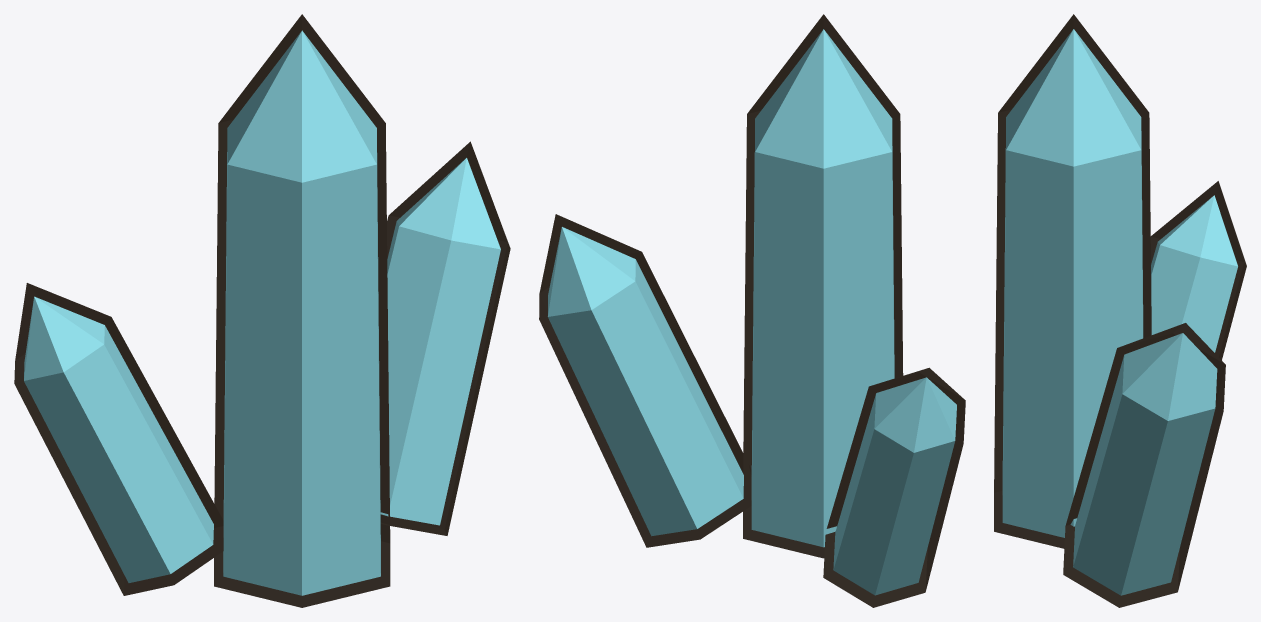
The model's file is crystal_01.glb.
3 views of the same model, side by side, from view 1: azimuth 30°, elevation 25°; view 2: azimuth 150°, elevation 25°; view 3: azimuth 270°, elevation 25° (orthographic). The views are drawn at different scales.
Visible parts, largest first — view 1: OBJ_crystal_01; view 2: OBJ_crystal_01; view 3: OBJ_crystal_01.
Part boxes in pixels (x1,y1,x2,y2): OBJ_crystal_01: (14, 14, 510, 607); OBJ_crystal_01: (539, 14, 965, 607); OBJ_crystal_01: (994, 14, 1246, 607).
Size of the model in its own units: 0.3037 by 0.3491 by 0.1539.
